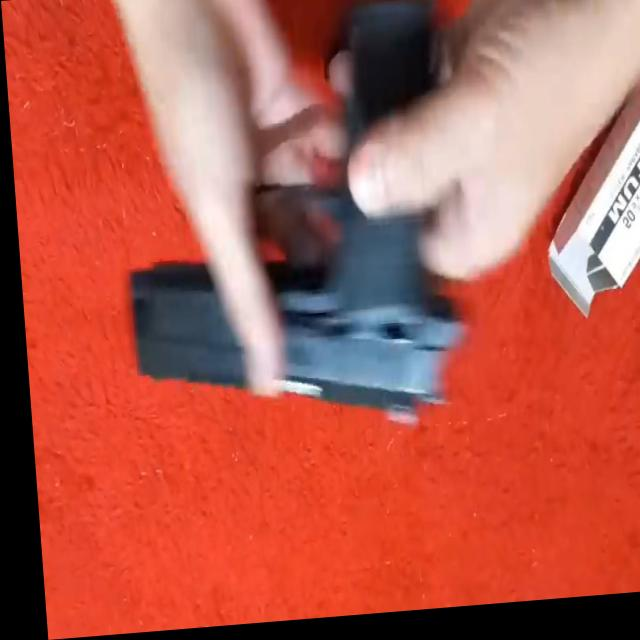handgun: (100, 0, 474, 455)
